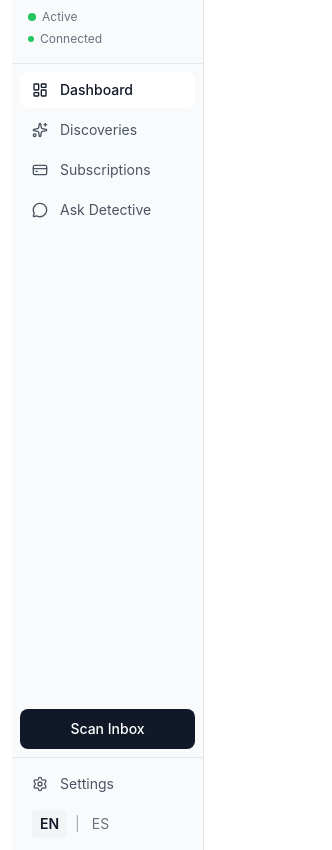
it: Sidebar › Scan Inbox › shows a translated inline error when the POST fails
Click the button "Scan Inbox" at (108, 729), box [20,709,195,749]
(page scrolled)
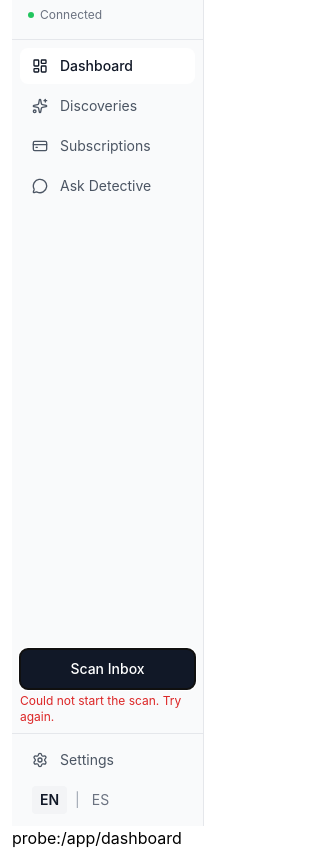
Expected: the text "probe:/app/dashboard" is shown, [12,828,182,848]
Now the message "Could not start the scan. Try again." is shown, box [20,693,195,725]
Now the message reads "Could not start the scan. Try again.", box [20,693,181,724]
